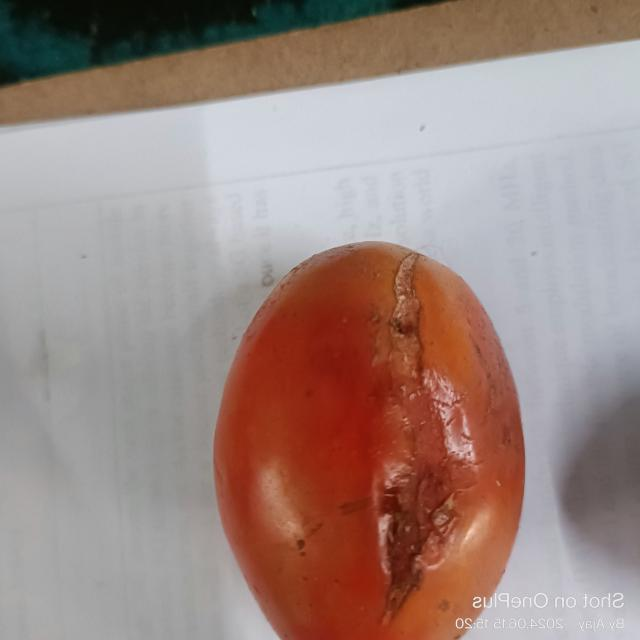tomato_cracking: (373, 252, 486, 604)
